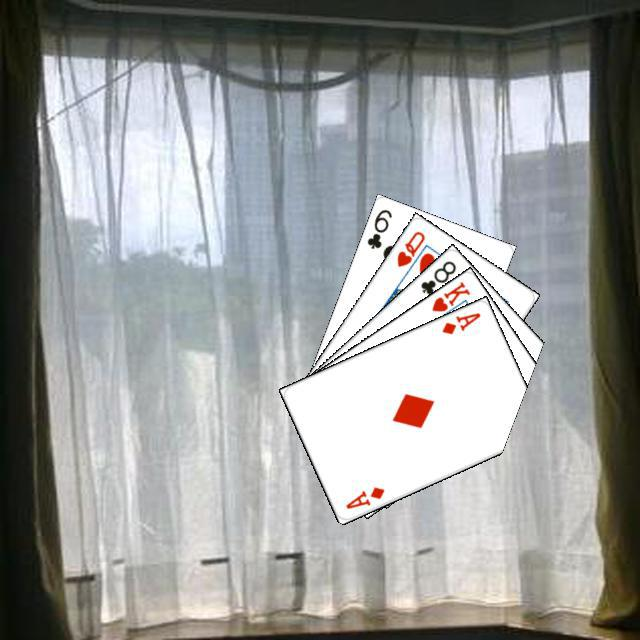6c: (362, 204, 394, 251)
8c: (416, 256, 458, 296)
Ad: (437, 307, 482, 336), (341, 482, 386, 511)
Kh: (427, 277, 472, 323)
Qh: (392, 226, 427, 269)
